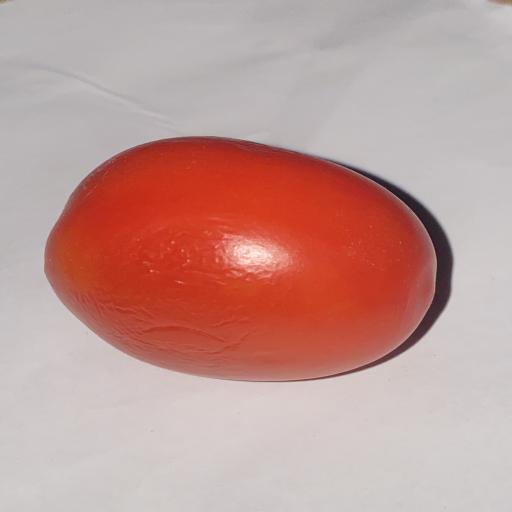spoiled: (45, 137, 436, 381)
